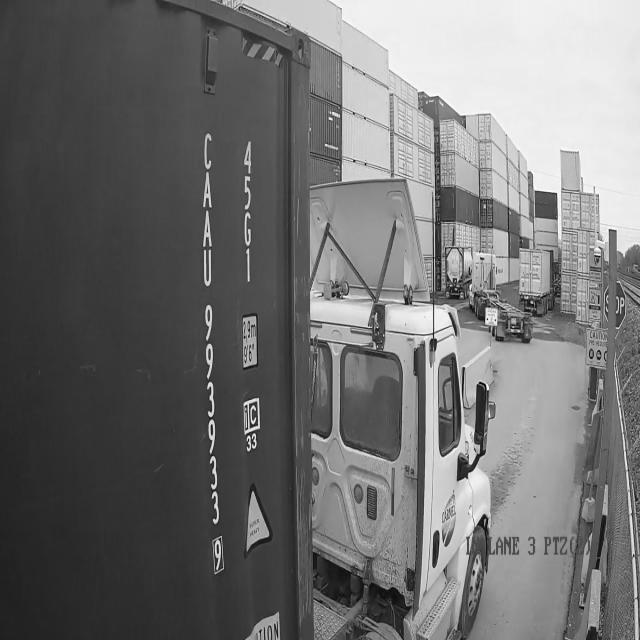container_side_no: (195, 122, 230, 530)
truck_company: (442, 491, 456, 546)
truck_with_container: (0, 0, 494, 639)
